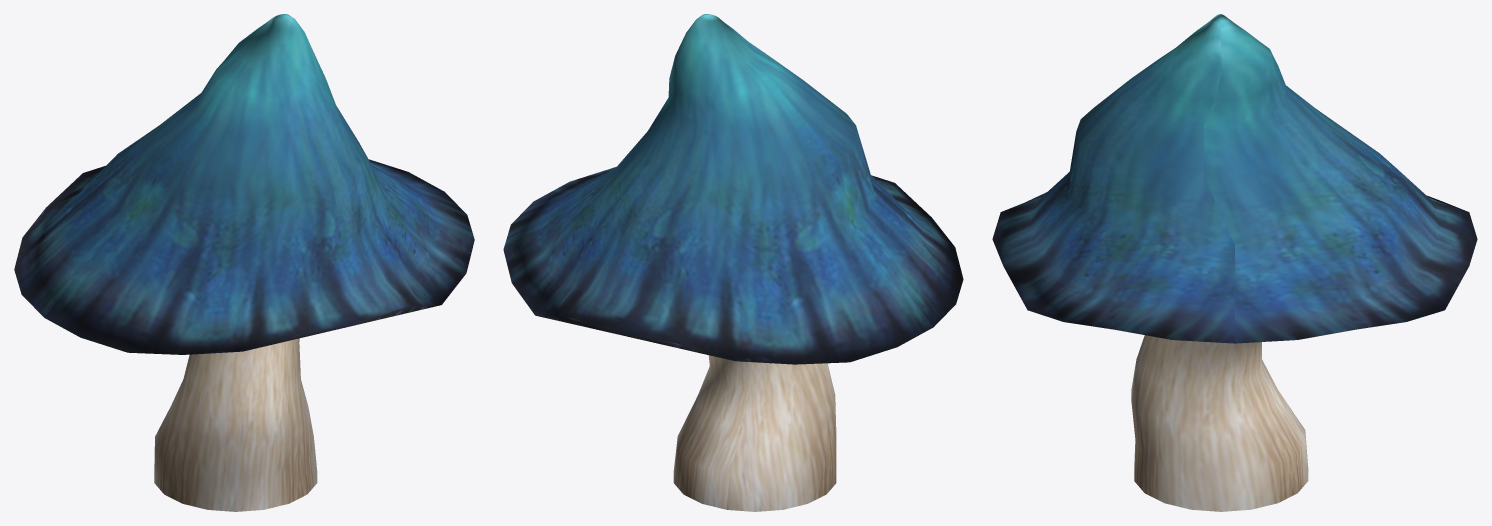
The model's file is mushroom02_one.FBX.
3 views of the same model, side by side, from view 1: azimuth 30°, elevation 25°; view 2: azimuth 150°, elevation 25°; view 3: azimuth 270°, elevation 25° (orthographic). The views are drawn at different scales.
Visible parts, largest first — view 1: Object003; view 2: Object003; view 3: Object003.
Boxes of the visible parts, x1=… form: Object003: x1=14, y1=14, x2=474, y2=511; Object003: x1=503, y1=14, x2=963, y2=511; Object003: x1=992, y1=14, x2=1477, y2=511.
Bounding box in the file's own units: 47.23 × 50.88 × 46.38.
